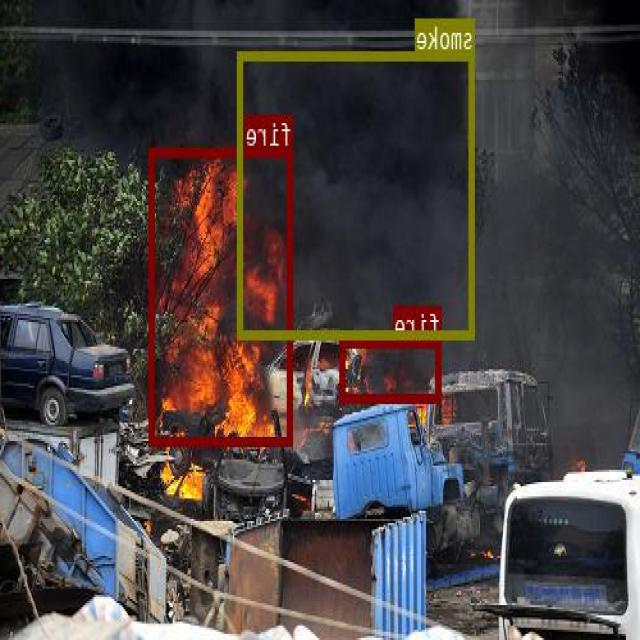fire: (150, 146, 294, 444), (342, 338, 442, 401)
smoke: (238, 50, 476, 338)
